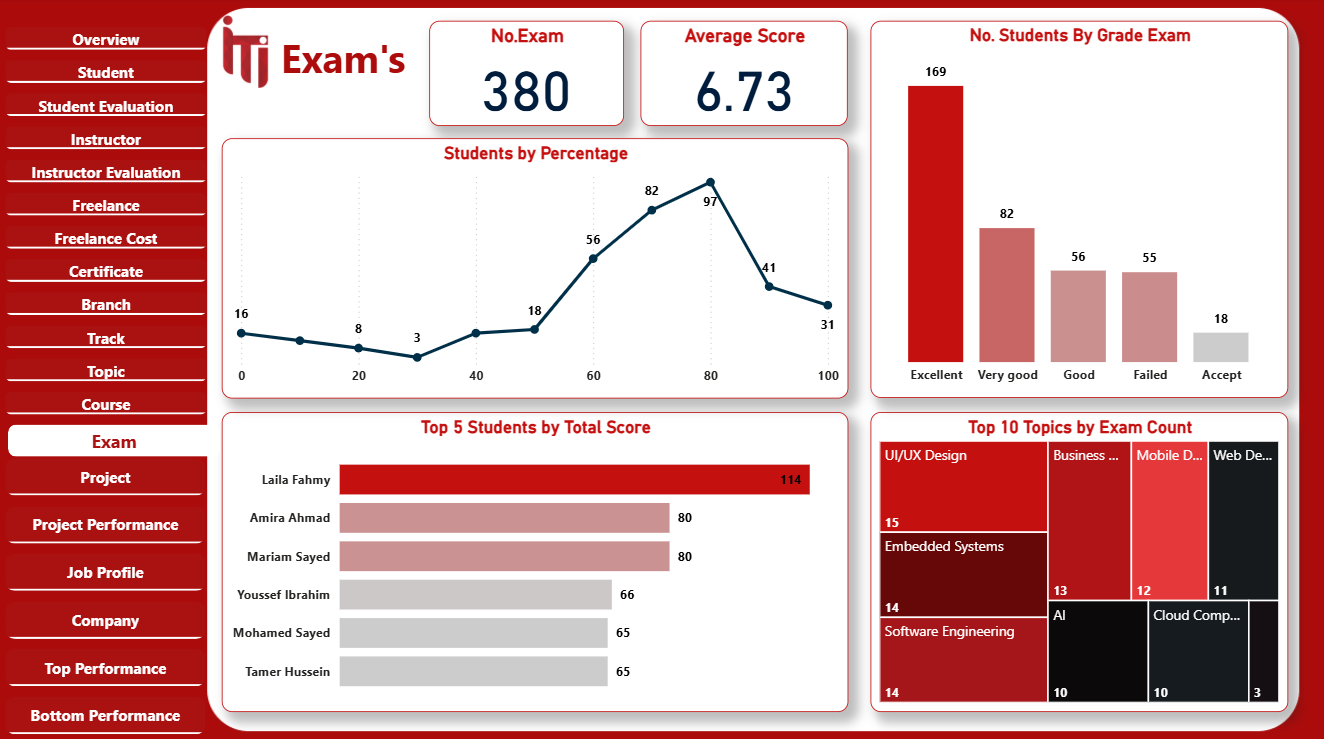

What the dashboard file says about the page in this screenshot:
{"tool":"powerbi","page":{"name":"Exam","canvas":[1280,720],"ordinal":12},"visuals":[{"type":"card","title":"No.Exam","fields":{"Values":["CountNonNull(Student_Exam.Ex_ID)"]},"box":[415.8,23.3,188,101.5],"z":0},{"type":"card","title":"Average Score","fields":{"Values":["Avg(Student_Exam.Score)"]},"box":[620.2,23.3,200.3,101.5],"z":1000},{"type":"clusteredBarChart","title":"Top 5 Students by Total Score","fields":{"Category":["vw_Dim_Student.Student Name"],"Y":["Sum(Student_Exam.Score)"]},"box":[215.4,400.7,605.1,289.5],"z":2000},{"type":"treemap","title":"Top 10 Topics by Exam Count","fields":{"Group":["vw_Dim_Topic.Topic_Name"],"Values":["Count(Fact_Student_Performance.ex_id)"]},"box":[842.5,400.7,403.4,289.5],"z":3000},{"type":"columnChart","title":"No. Students By Grade Exam","fields":{"Category":["Student_Exam.Grade"],"Y":["CountNonNull(Student_Exam.St_ID)"]},"box":[842.5,23.3,403.4,363.6],"z":4000},{"type":"lineChart","title":"Students by Percentage","fields":{"Category":["Student_Exam.Percentage"],"Y":["CountNonNull(Student_Exam.St_ID)"]},"box":[215.4,135.8,605.1,251.1],"z":5000},{"type":"textbox","box":[267.6,28.8,167.4,70],"z":6000},{"type":"pageNavigator","box":[6.9,28.8,194.9,374.6],"z":7000},{"type":"pageNavigator","box":[9.6,413,205.8,31.6],"z":8000},{"type":"pageNavigator","box":[6.9,444.6,193.5,266.2],"z":9000},{"type":"image","box":[196.2,4.1,86.4,89.2],"z":10000}]}

Visuals, with their boxes on the page's 1280x720 design canvas (x1, y1, x2, y2). These are canvas units, not pixel positions in the 1324x739 screenshot, which may show the page scaled, cropped or inside an application window:
"No.Exam" card: bbox=(416, 23, 604, 125)
"Average Score" card: bbox=(620, 23, 820, 125)
"Top 5 Students by Total Score" clusteredBarChart: bbox=(215, 401, 820, 690)
"Top 10 Topics by Exam Count" treemap: bbox=(842, 401, 1246, 690)
"No. Students By Grade Exam" columnChart: bbox=(842, 23, 1246, 387)
"Students by Percentage" lineChart: bbox=(215, 136, 820, 387)
textbox: bbox=(268, 29, 435, 99)
pageNavigator: bbox=(7, 29, 202, 403)
pageNavigator: bbox=(10, 413, 215, 445)
pageNavigator: bbox=(7, 445, 200, 711)
image: bbox=(196, 4, 283, 93)
